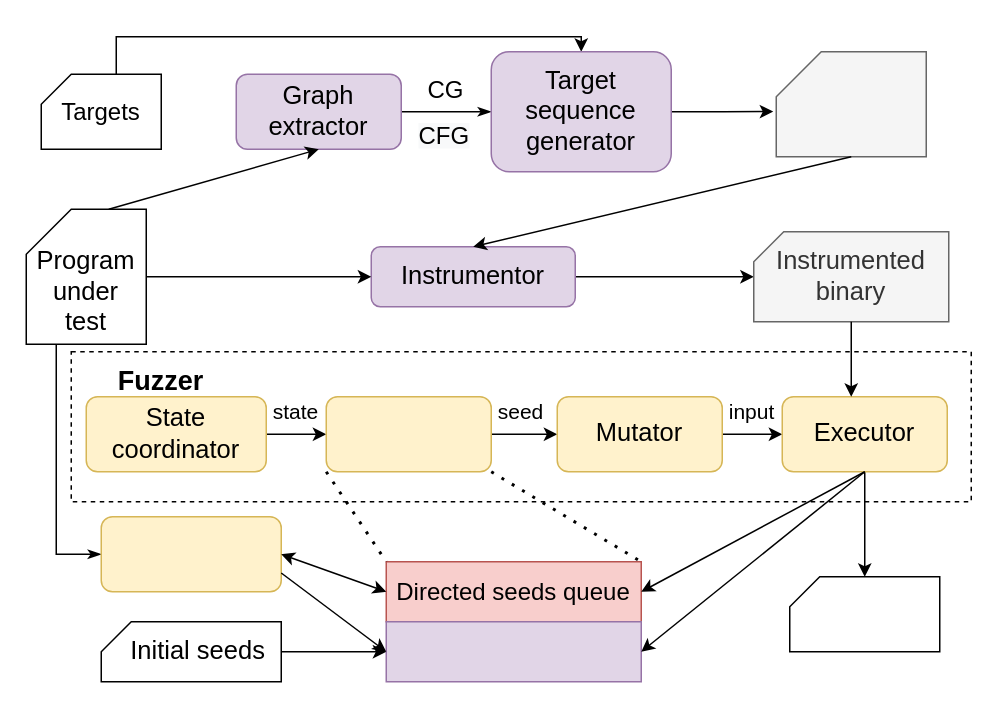
This 998x708 diagram has some shape labels left out. The shapes that lost their labels are listed below. From the top down, each one's centre as x and y in pixels, then its label:
At (x=850, y=103): "Target sequences".
At (x=408, y=433): "Seed selector".
At (x=190, y=553): "Concolic executor".
At (x=864, y=613): "Crashes".
At (x=513, y=651): "Coverage seeds queue".
